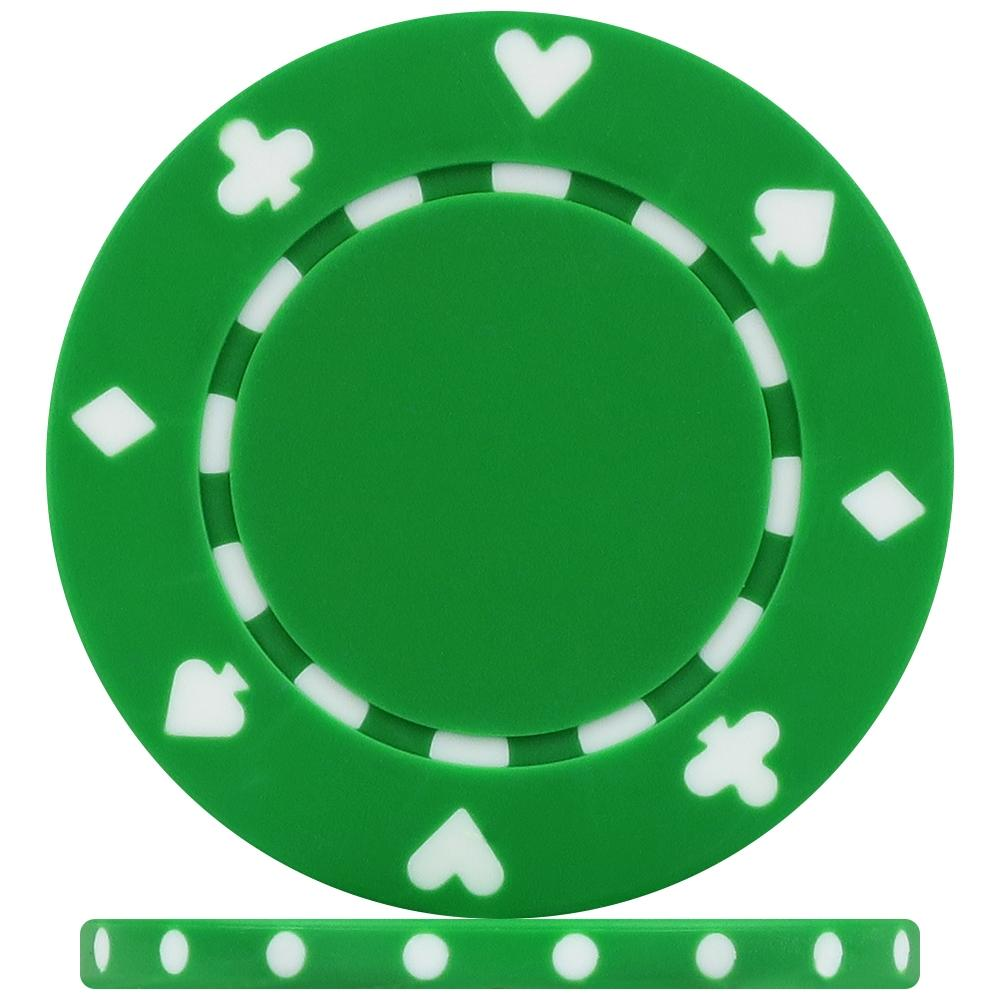chip-green: (80, 920, 920, 988)
